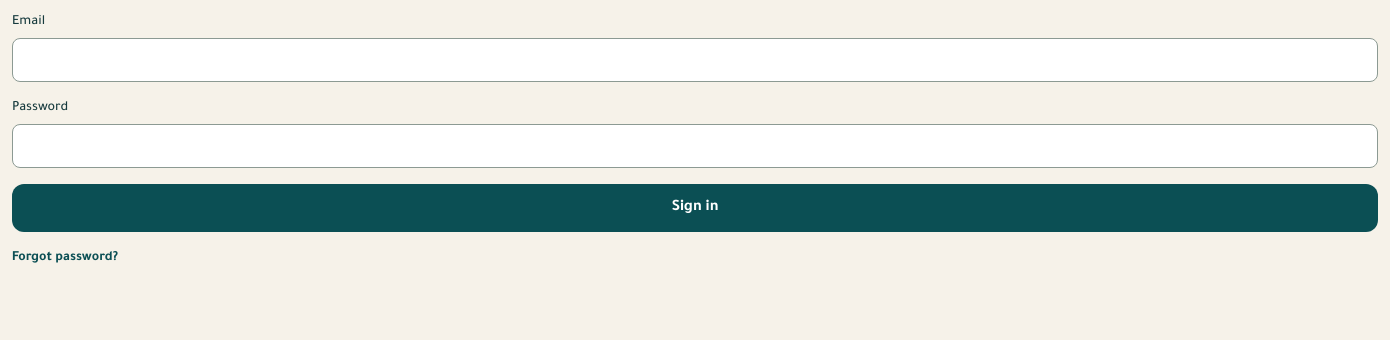
it: LoginForm › shows invalid credentials and rate limiting as alerts
Type "lina@example.test" into the field labelled "Email". click: (695, 60)
box: top-left (12, 38), bottom-right (1378, 82)
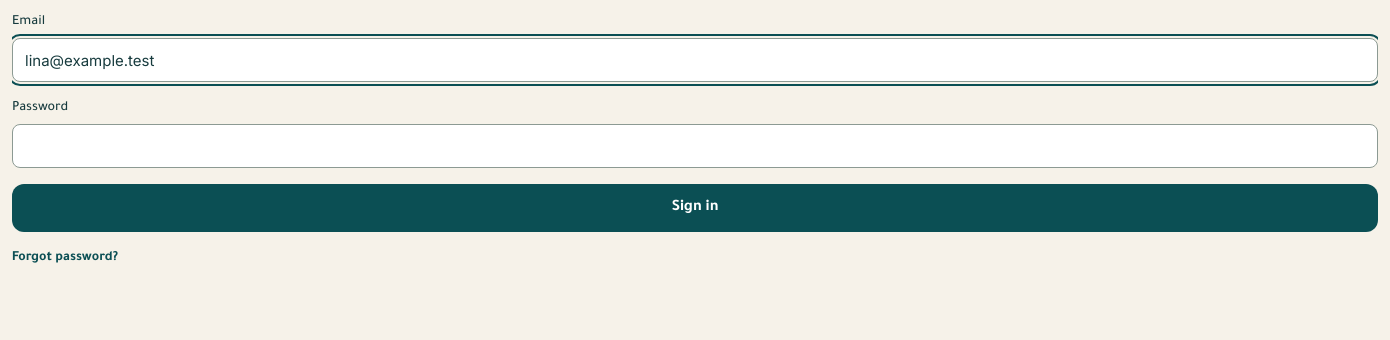
Type "correct horse" into the password field labelled "Password". click: (695, 146)
box: top-left (12, 124), bottom-right (1378, 168)
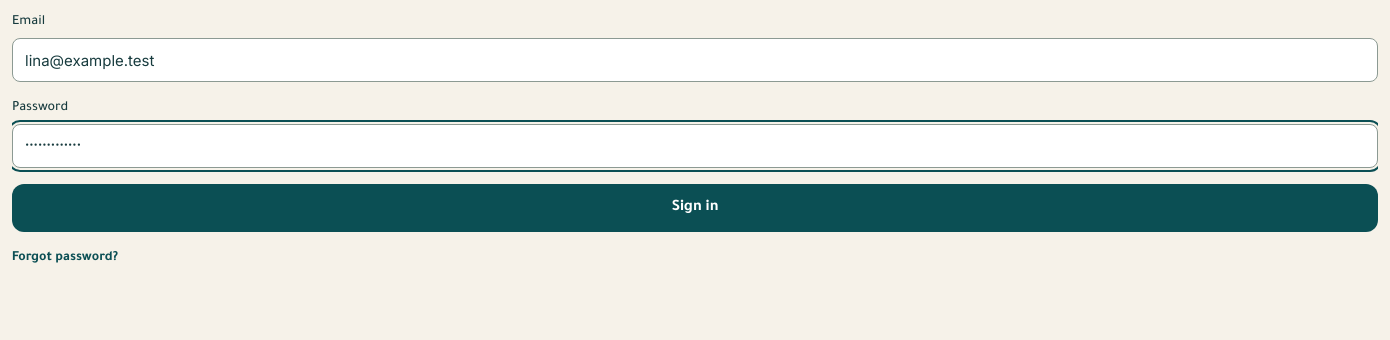
Click the button "Sign in". click: (695, 208)
box: top-left (12, 184), bottom-right (1378, 232)
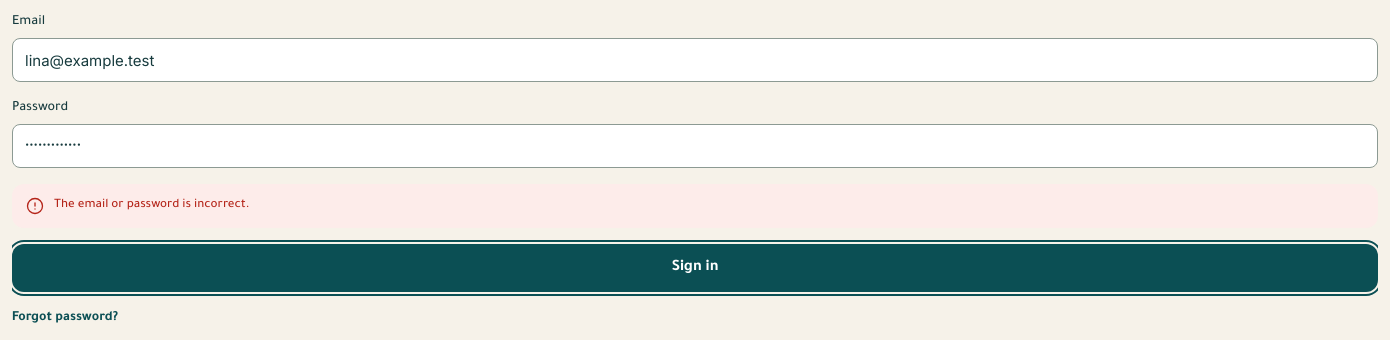
Result: the text "The email or password is incorrect." is shown at top-left (54, 199), bottom-right (250, 212)
Click the button "Sign in". click: (695, 268)
box: top-left (12, 244), bottom-right (1378, 292)
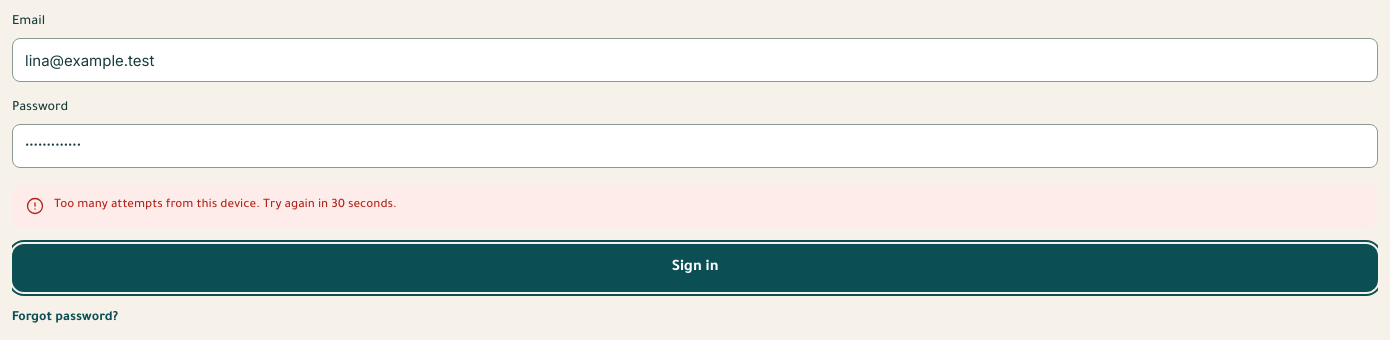
Result: the text "Too many attempts from this device. Try again in 30 seconds." is shown at top-left (54, 199), bottom-right (397, 212)
